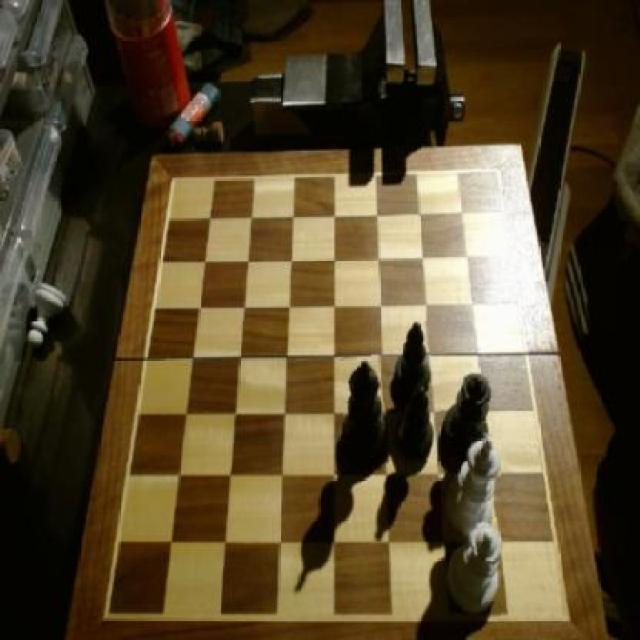bishop: (396, 383, 434, 463), (396, 321, 432, 397)
black-bishop: (342, 357, 389, 468)
black-pawn: (439, 372, 493, 468)
white-bishop: (443, 434, 501, 541)
white-pawn: (448, 517, 500, 622)
